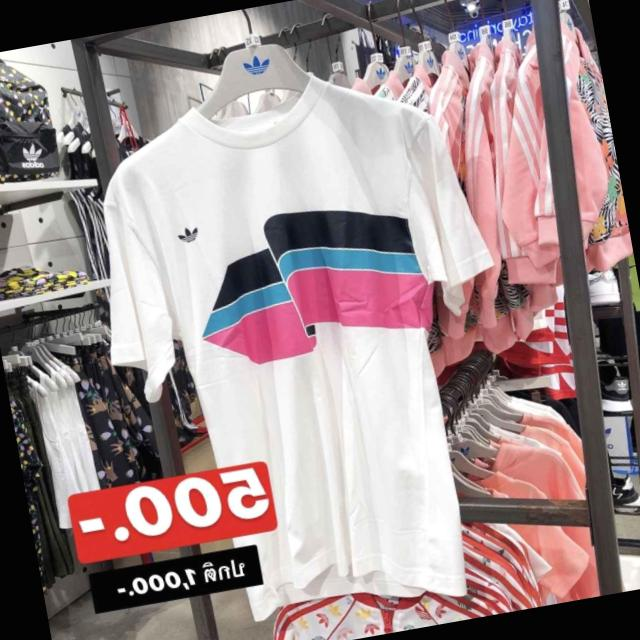Tshirt: (86, 61, 542, 630)
